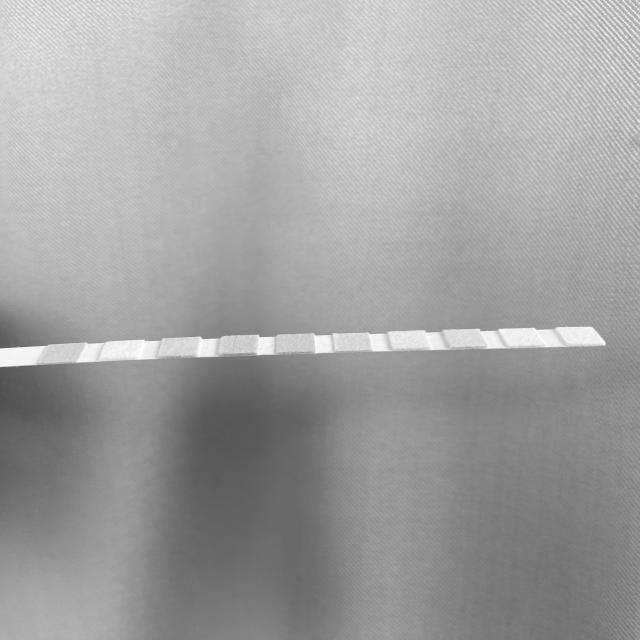Bilirubin: (106, 342, 136, 358)
Blood: (277, 334, 313, 352)
Glucose: (47, 346, 76, 362)
Ketone: (163, 339, 196, 355)
Leukocytes: (570, 328, 593, 344)
Nitrite: (510, 330, 535, 346)
Protein: (393, 332, 427, 348)
SpGravity: (222, 337, 256, 352)
Urobilinogen: (453, 329, 479, 347)
background: (0, 0, 640, 640)
pH: (334, 334, 368, 351)
strip: (0, 328, 607, 367)
